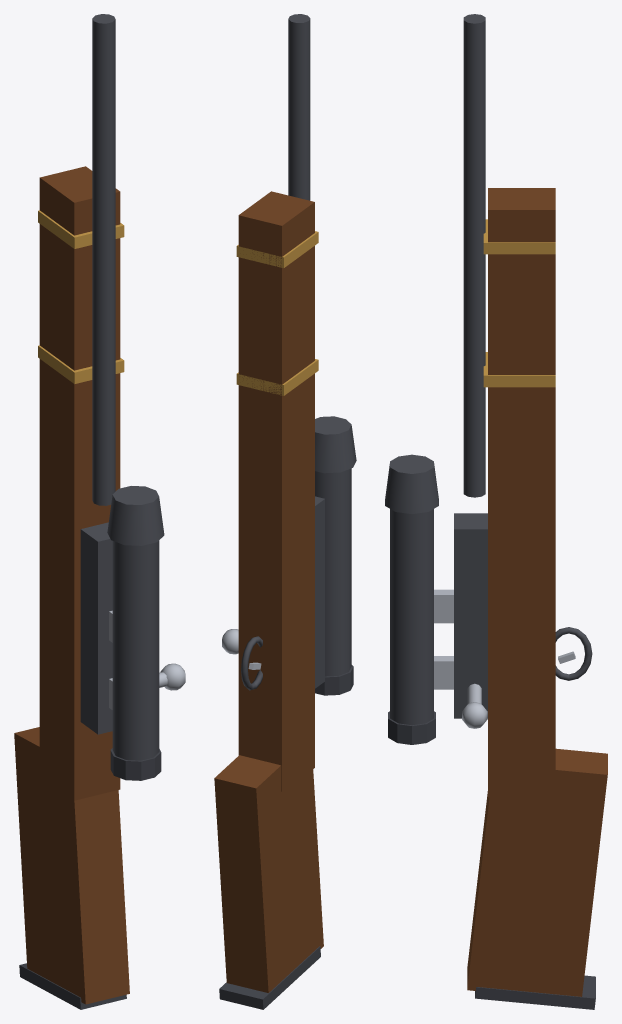
The model's file is bolt_rifle.glb.
The picture shows the model from 3 angles, left to right: view 1: azimuth 30°, elevation 25°; view 2: azimuth 150°, elevation 25°; view 3: azimuth 270°, elevation 25°; orthographic projection. The views are drawn at different scales.
Visible parts, largest first — view 1: BoltRifle_Wood, BoltRifle_Gunmetal, BoltRifle_Darksteel, BoltRifle_Brass, BoltRifle_Steel; view 2: BoltRifle_Wood, BoltRifle_Gunmetal, BoltRifle_Darksteel, BoltRifle_Brass, BoltRifle_Steel; view 3: BoltRifle_Wood, BoltRifle_Gunmetal, BoltRifle_Darksteel, BoltRifle_Steel, BoltRifle_Brass.
Boxes of the visible parts, <box> form: BoltRifle_Wood: <box>14,166,129,1004</box>; BoltRifle_Gunmetal: <box>80,14,164,760</box>; BoltRifle_Darksteel: <box>19,748,161,1009</box>; BoltRifle_Brass: <box>38,210,124,383</box>; BoltRifle_Steel: <box>109,610,185,709</box>; BoltRifle_Wood: <box>214,191,323,992</box>; BoltRifle_Gunmetal: <box>241,14,356,690</box>; BoltRifle_Darksteel: <box>219,665,353,1009</box>; BoltRifle_Brass: <box>236,231,318,395</box>; BoltRifle_Steel: <box>222,629,261,669</box>; BoltRifle_Wood: <box>467,188,607,996</box>; BoltRifle_Gunmetal: <box>385,14,592,725</box>; BoltRifle_Darksteel: <box>388,711,595,1009</box>; BoltRifle_Steel: <box>434,589,575,728</box>; BoltRifle_Brass: <box>483,219,555,387</box>.
Size of the model in its own units: 0.1144 by 1.03 by 0.2129.
